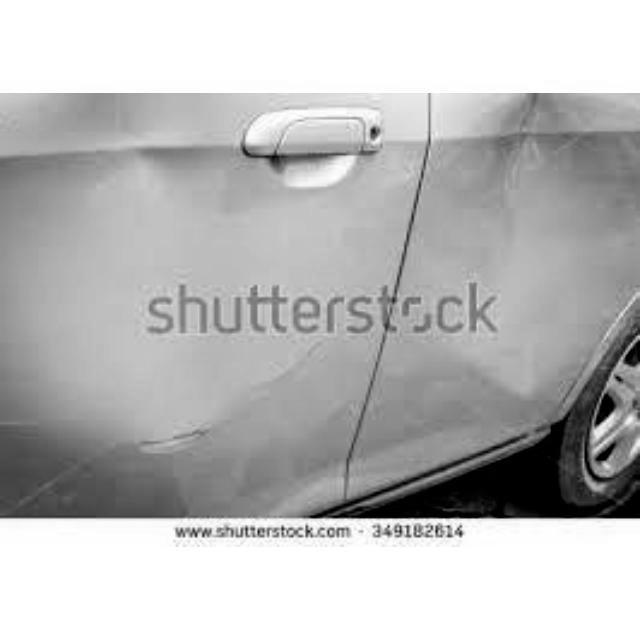doorouter-dent: (90, 98, 397, 540)
quaterpanel-dent: (424, 98, 630, 434)
